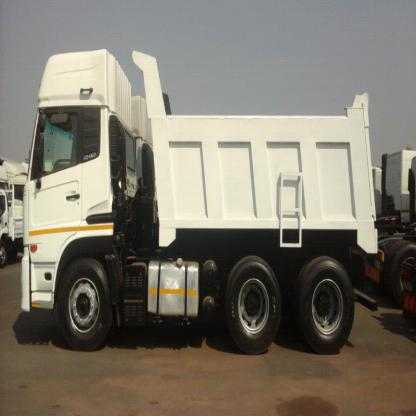dump_truck: (19, 34, 380, 381)
